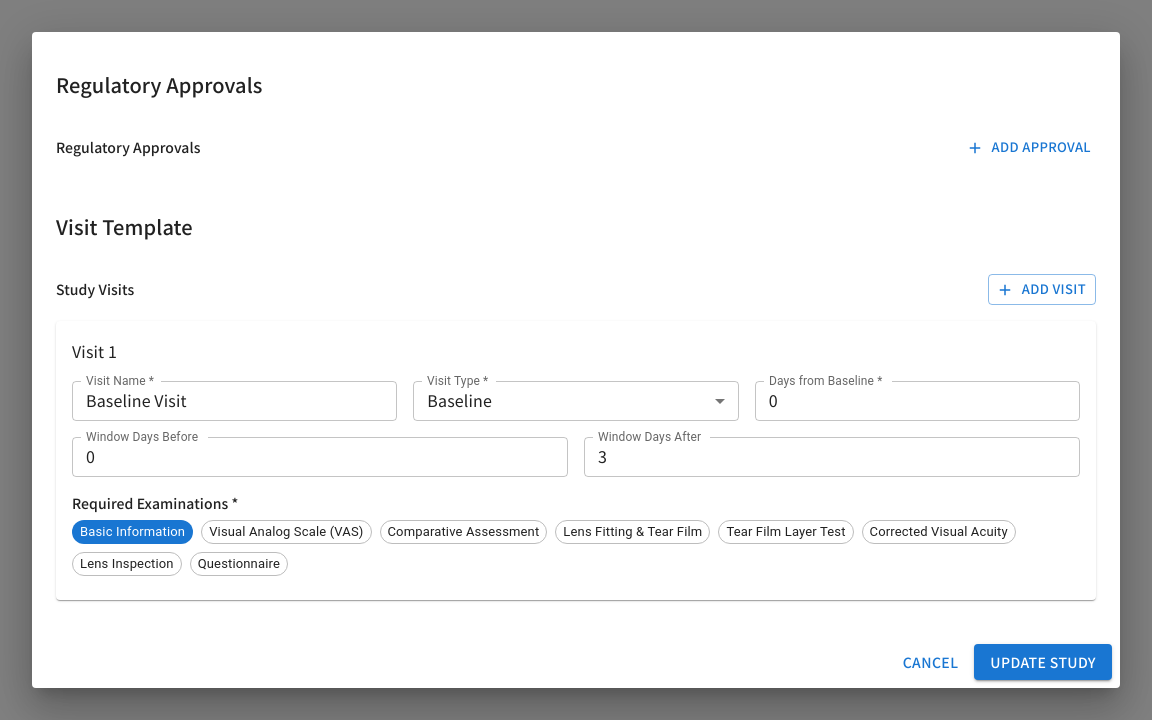
Test: ClinicalStudyEditForm › handles form submission error
(page scrolled)
# Submit form
Click the button "Update Study": click(1043, 662) [974,644,1112,680]
(page scrolled)
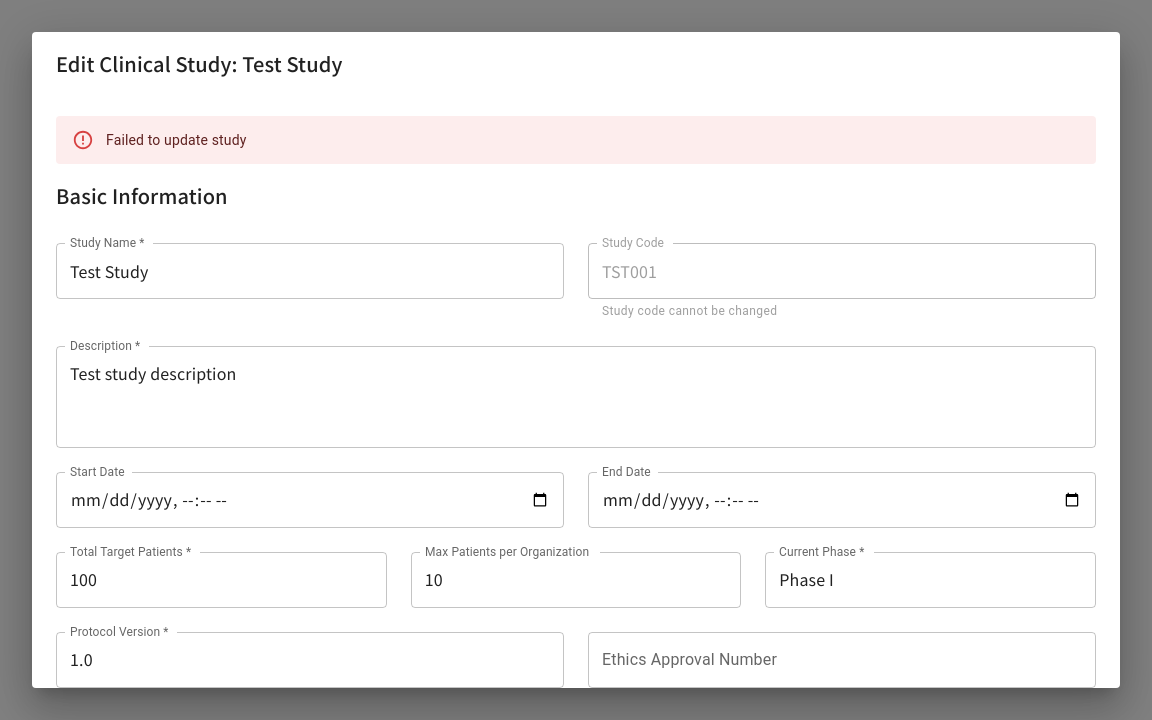
Check: the text "Failed to update study" is shown, box [106,132,246,148]
